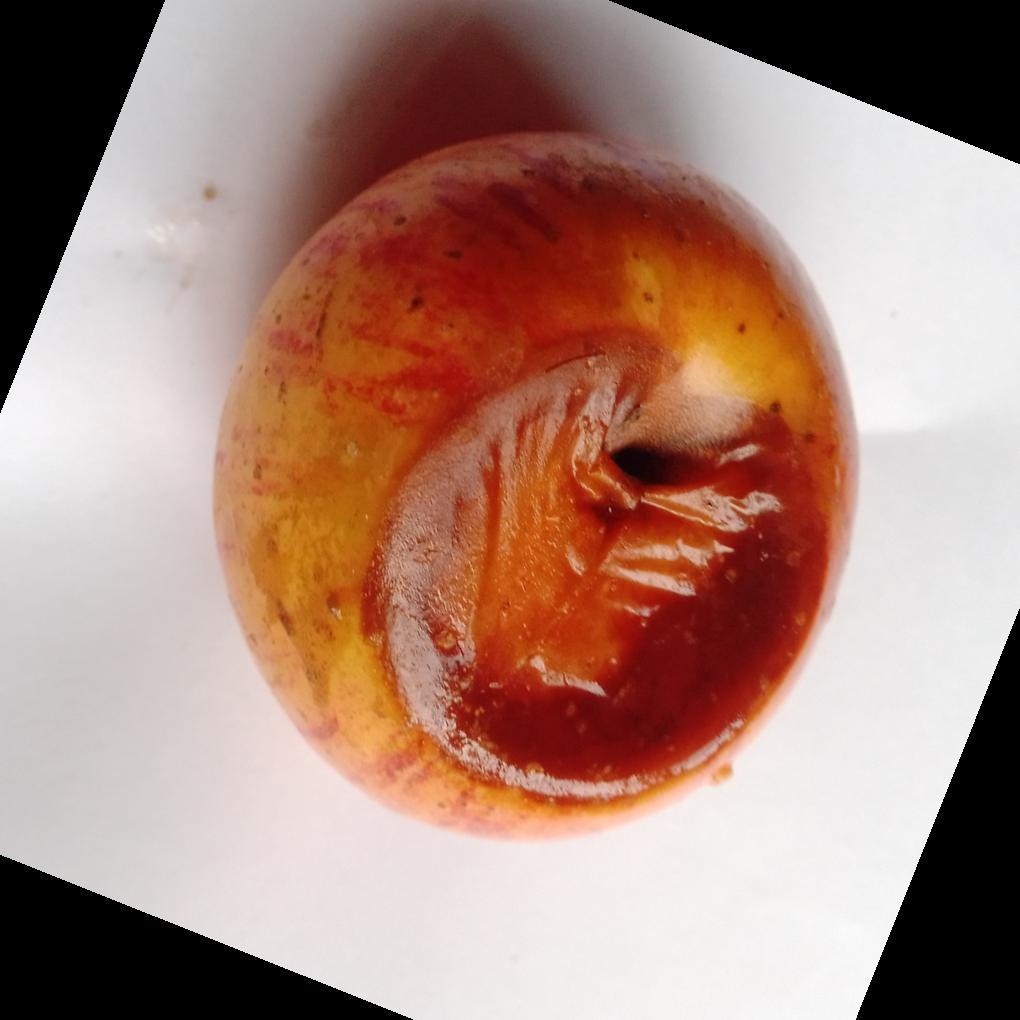FreshOrange: (211, 131, 861, 845)
